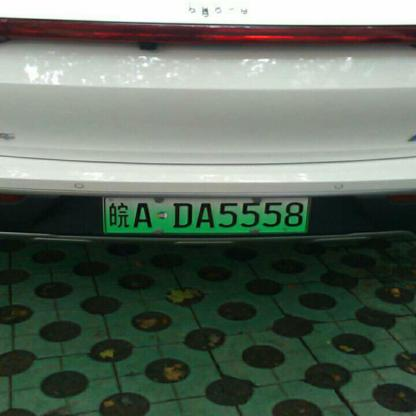lp: (104, 196, 309, 235)
